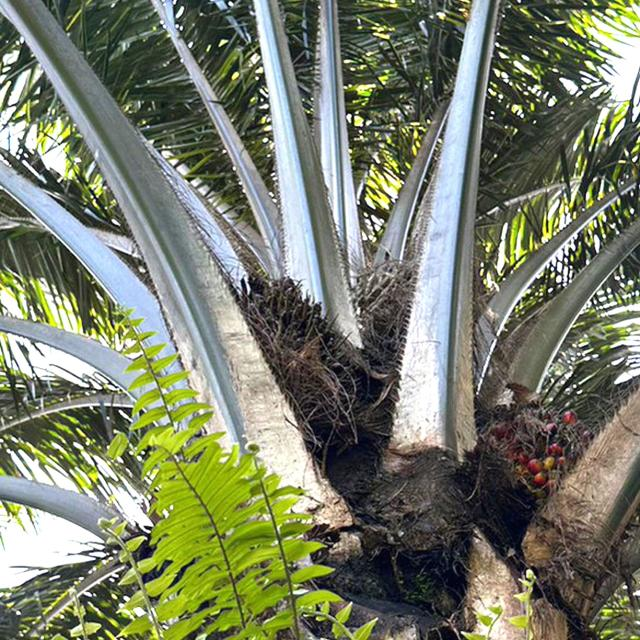almost: (226, 272, 372, 455)
